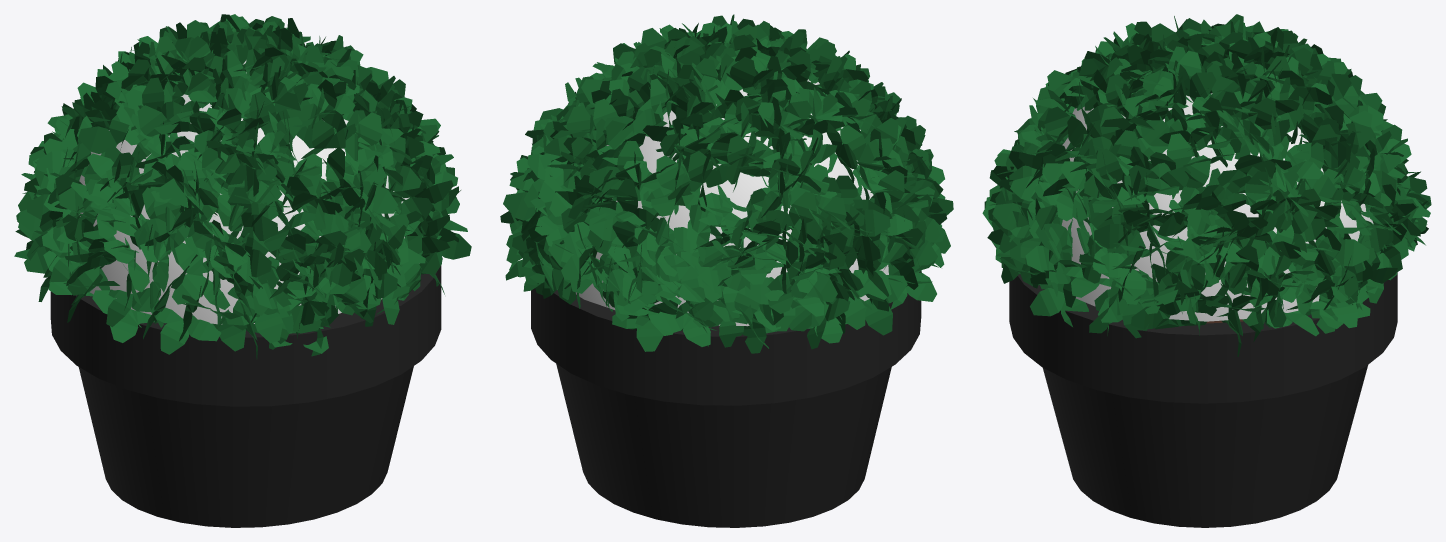
Rendered from plante en pot noir.fbx.
3 views of the same model, side by side, from view 1: azimuth 30°, elevation 25°; view 2: azimuth 150°, elevation 25°; view 3: azimuth 270°, elevation 25° (orthographic).
Parts seen in each view (by area): view 1: Cylinder, Cylinder.001, Sphere, Sphere|leaf|Dupli|415, Sphere|leaf|Dupli|674, Sphere|leaf|Dupli|305, Sphere|leaf|Dupli|4, Sphere|leaf|Dupli|478, Sphere|leaf|Dupli|601, Sphere|leaf|Dupli|644, Sphere|leaf|Dupli|429, Sphere|leaf|Dupli|209 (+48 smaller); view 2: Cylinder, Cylinder.001, Sphere, Sphere|leaf|Dupli|107, Sphere|leaf|Dupli|120, Sphere|leaf|Dupli|266, Sphere|leaf|Dupli|13, Sphere|leaf|Dupli|684, Sphere|leaf|Dupli|613, Sphere|leaf|Dupli|466, Sphere|leaf|Dupli|332, Sphere|leaf|Dupli|322 (+51 smaller); view 3: Cylinder, Cylinder.001, Sphere, Sphere|leaf|Dupli|665, Sphere|leaf|Dupli|174, Sphere|leaf|Dupli|544, Sphere|leaf|Dupli|344, Sphere|leaf|Dupli|314, Sphere|leaf|Dupli|41, Sphere|leaf|Dupli|211, Sphere|leaf|Dupli|368, Sphere|leaf|Dupli|158 (+54 smaller).
Boxes of the visible parts, left/top/right/bottom form: Cylinder: left=78, top=366, right=413, bottom=527; Cylinder.001: left=50, top=265, right=441, bottom=406; Sphere: left=79, top=60, right=409, bottom=324; Sphere|leaf|Dupli|415: left=172, top=242, right=230, bottom=309; Sphere|leaf|Dupli|674: left=151, top=307, right=221, bottom=354; Sphere|leaf|Dupli|305: left=78, top=107, right=135, bottom=156; Sphere|leaf|Dupli|4: left=92, top=290, right=157, bottom=342; Sphere|leaf|Dupli|478: left=106, top=288, right=158, bottom=327; Sphere|leaf|Dupli|601: left=132, top=105, right=193, bottom=162; Sphere|leaf|Dupli|644: left=227, top=187, right=278, bottom=241; Sphere|leaf|Dupli|429: left=301, top=119, right=356, bottom=158; Sphere|leaf|Dupli|209: left=226, top=298, right=300, bottom=343; Cylinder: left=556, top=363, right=891, bottom=527; Cylinder.001: left=531, top=271, right=921, bottom=405; Sphere: left=575, top=79, right=888, bottom=326; Sphere|leaf|Dupli|107: left=757, top=191, right=830, bottom=240; Sphere|leaf|Dupli|120: left=642, top=155, right=690, bottom=215; Sphere|leaf|Dupli|266: left=652, top=310, right=710, bottom=346; Sphere|leaf|Dupli|13: left=840, top=125, right=893, bottom=163; Sphere|leaf|Dupli|684: left=864, top=275, right=907, bottom=335; Sphere|leaf|Dupli|613: left=589, top=141, right=643, bottom=201; Sphere|leaf|Dupli|466: left=651, top=238, right=705, bottom=303; Sphere|leaf|Dupli|332: left=667, top=151, right=729, bottom=205; Sphere|leaf|Dupli|322: left=561, top=222, right=602, bottom=295; Cylinder: left=1043, top=365, right=1367, bottom=527; Cylinder.001: left=1009, top=272, right=1397, bottom=403; Sphere: left=1061, top=93, right=1373, bottom=321; Sphere|leaf|Dupli|665: left=1093, top=252, right=1148, bottom=304; Sphere|leaf|Dupli|174: left=1030, top=278, right=1088, bottom=326; Sphere|leaf|Dupli|544: left=1144, top=133, right=1200, bottom=199; Sphere|leaf|Dupli|344: left=1327, top=214, right=1369, bottom=291; Sphere|leaf|Dupli|314: left=1035, top=220, right=1072, bottom=283; Sphere|leaf|Dupli|41: left=1141, top=117, right=1194, bottom=159; Sphere|leaf|Dupli|211: left=1128, top=165, right=1190, bottom=199; Sphere|leaf|Dupli|368: left=1211, top=218, right=1266, bottom=294; Sphere|leaf|Dupli|158: left=1060, top=161, right=1091, bottom=221.
Size of the model in its own units: 237 by 247 by 235.
